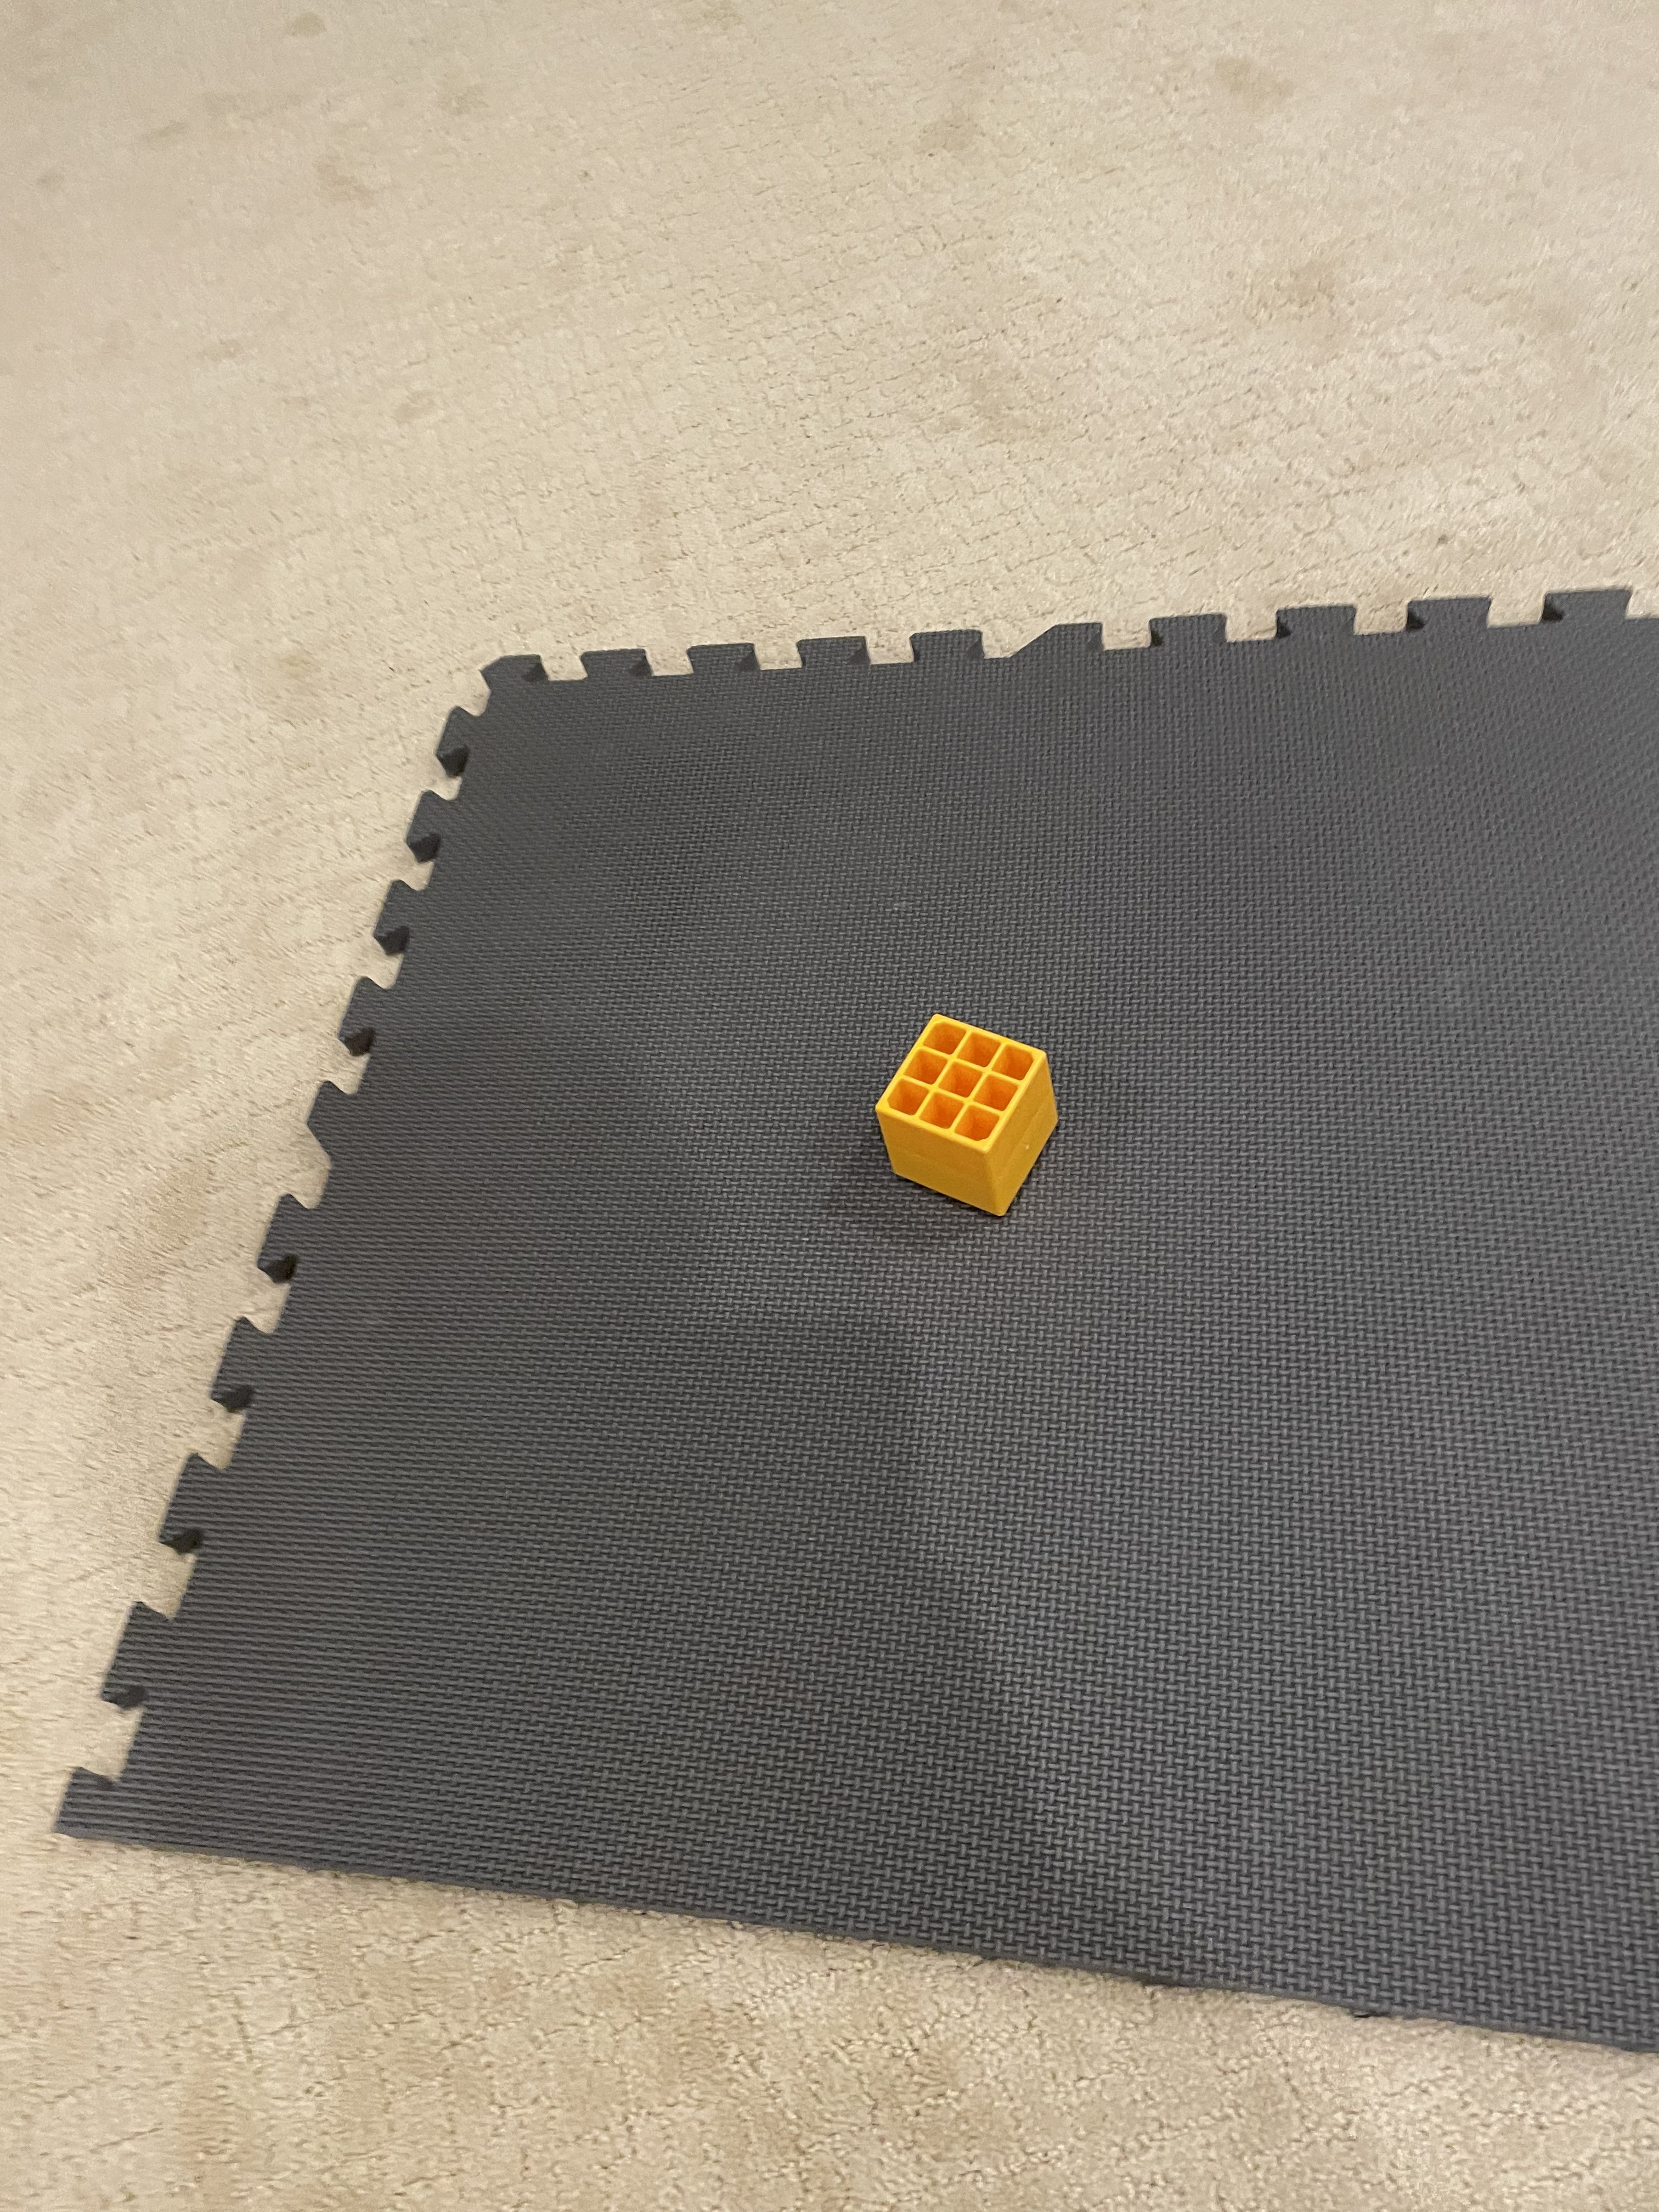cube: (859, 968, 1093, 1259)
